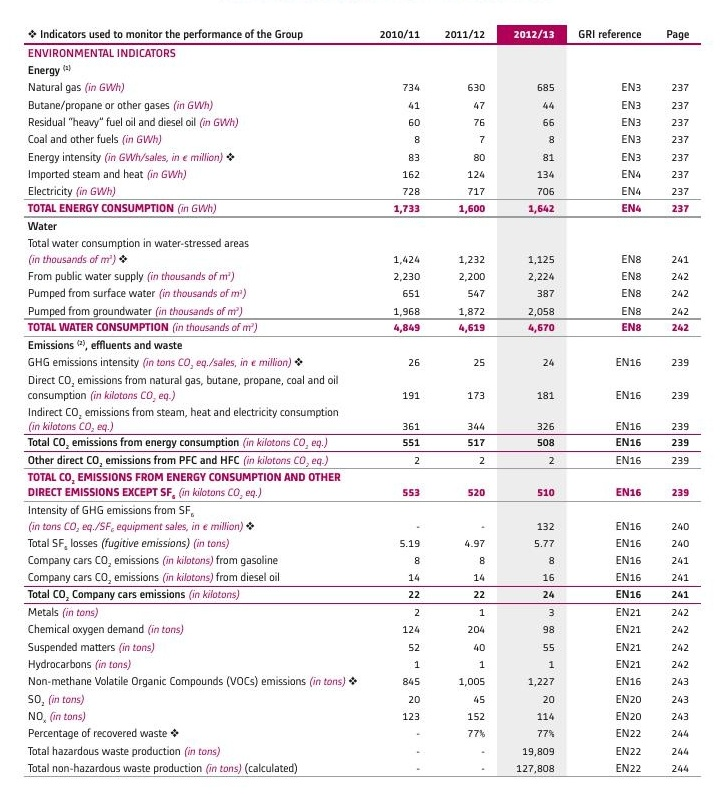table: (0, 0, 725, 795)
